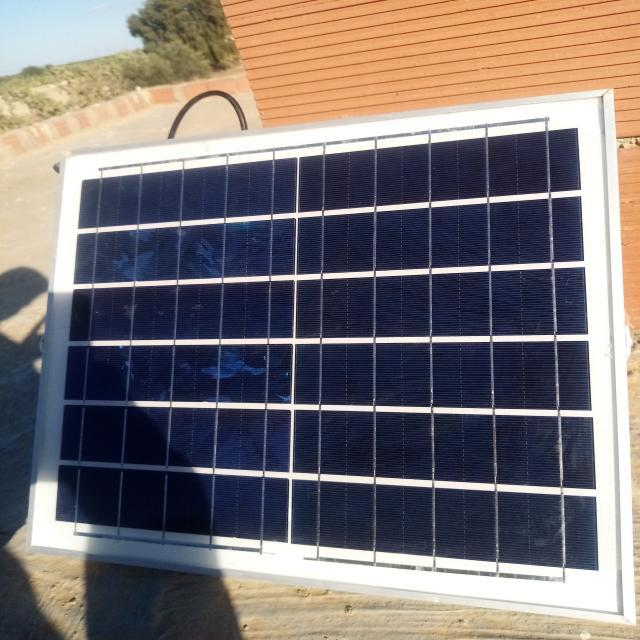no faulty: (26, 91, 634, 623)
